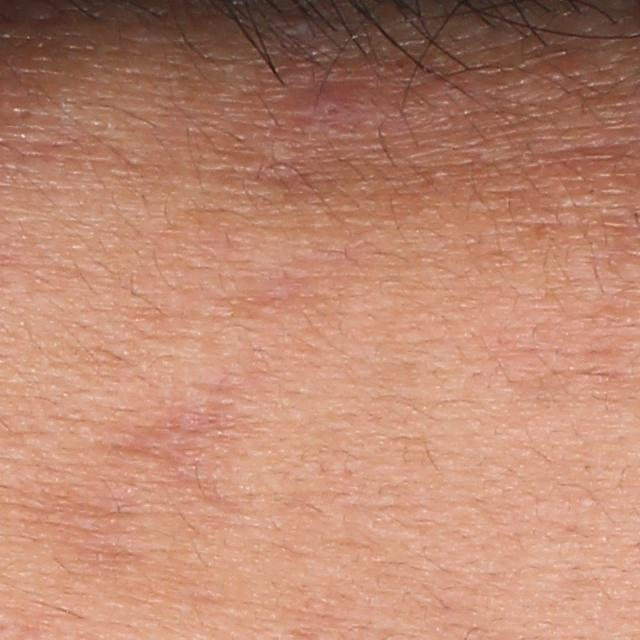atrophic_scar: (135, 380, 249, 510), (207, 258, 334, 336)
